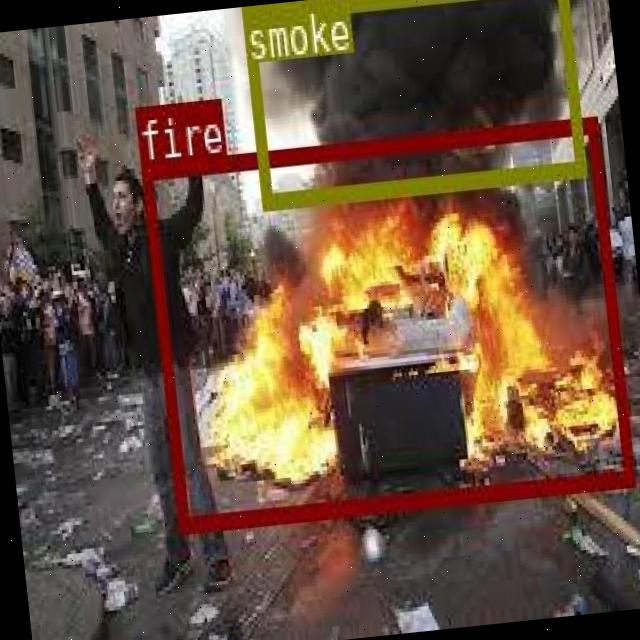fire: (138, 115, 632, 531)
smoke: (239, 0, 583, 208)
